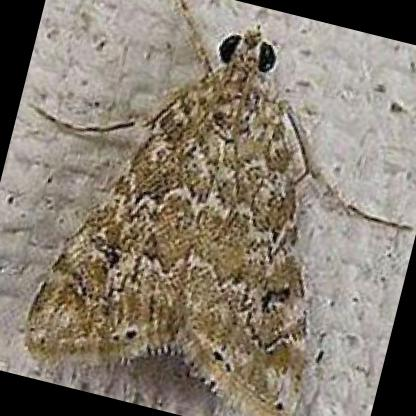Hellula undalis: (18, 0, 410, 416)
